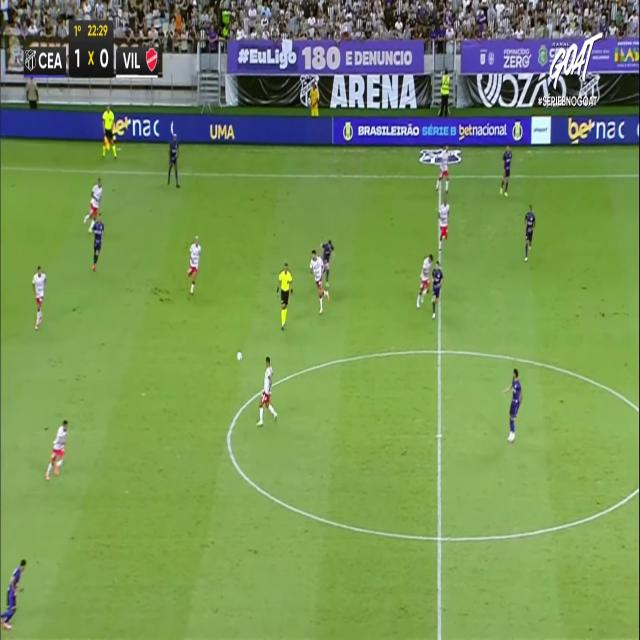ball: (237, 351, 242, 360)
player: (0, 557, 27, 631), (44, 418, 68, 480), (256, 355, 277, 425), (502, 368, 522, 441), (310, 249, 330, 311), (83, 176, 102, 231), (417, 253, 433, 313), (32, 264, 46, 329), (319, 237, 335, 289), (186, 235, 200, 294), (167, 127, 180, 187), (92, 212, 105, 272), (429, 259, 442, 318), (523, 203, 535, 260), (438, 196, 449, 250), (500, 144, 511, 195), (436, 160, 449, 193)
referee: (276, 261, 292, 330), (101, 102, 117, 159)
